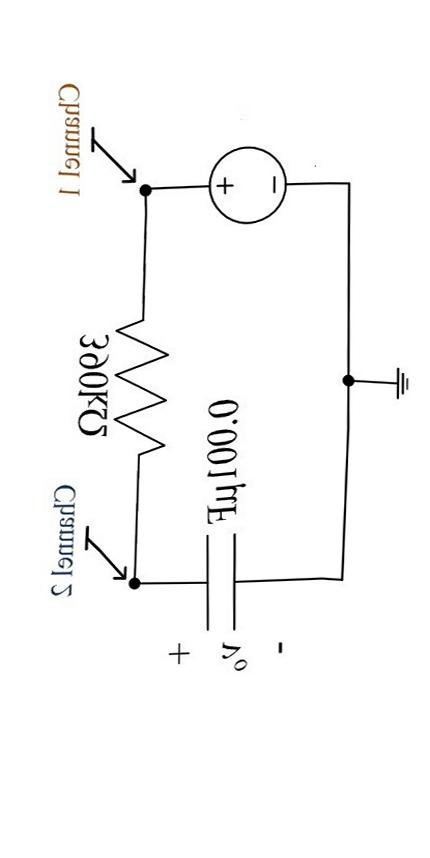Battery: (175, 128, 311, 251)
